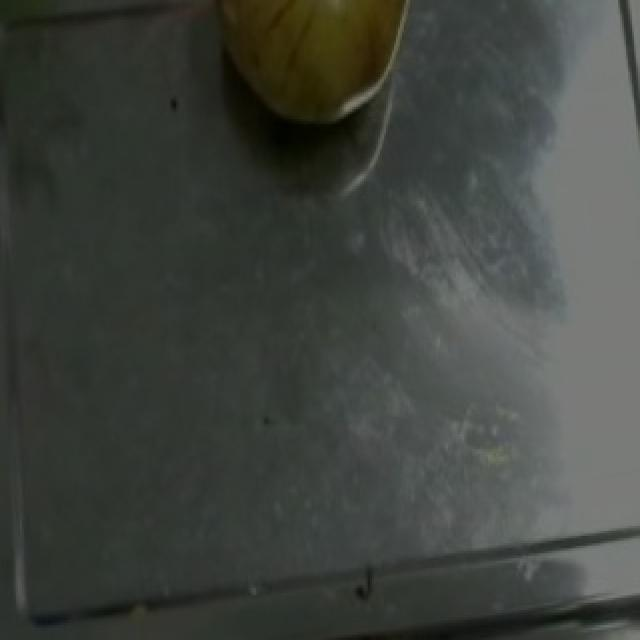fruit: (196, 0, 444, 146)
